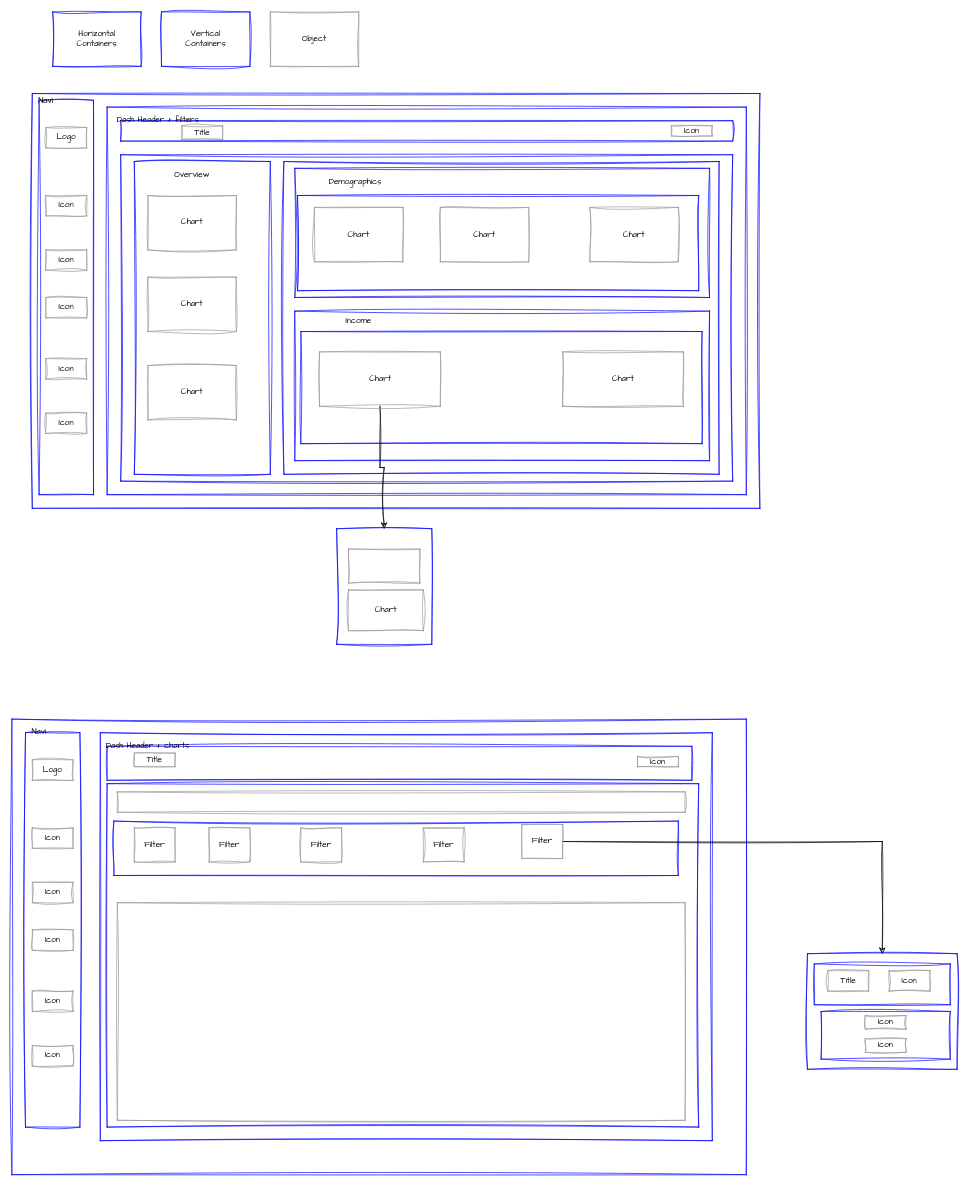
Image size: 969x1187. Some labels were removed from this diagram. Here are the shapes that lost their labels. From the top down, the centre of each, then its label:
[384,565]: Chart Title
[401,801]: Employee List
[401,1011]: List
